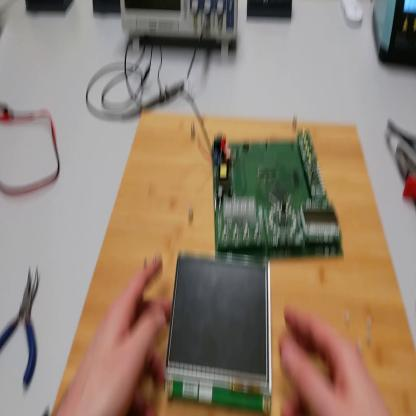hand: (70, 255, 174, 416), (280, 307, 389, 414)
low voltage board: (181, 88, 344, 263)
oscilloscope: (122, 2, 239, 57)
oscilloscope probe tip: (123, 80, 187, 121)
pliers: (2, 262, 41, 393), (388, 122, 416, 204)
socket: (27, 2, 73, 18), (94, 2, 121, 16)
welder station: (372, 2, 416, 72)
working area: (55, 110, 416, 415)
